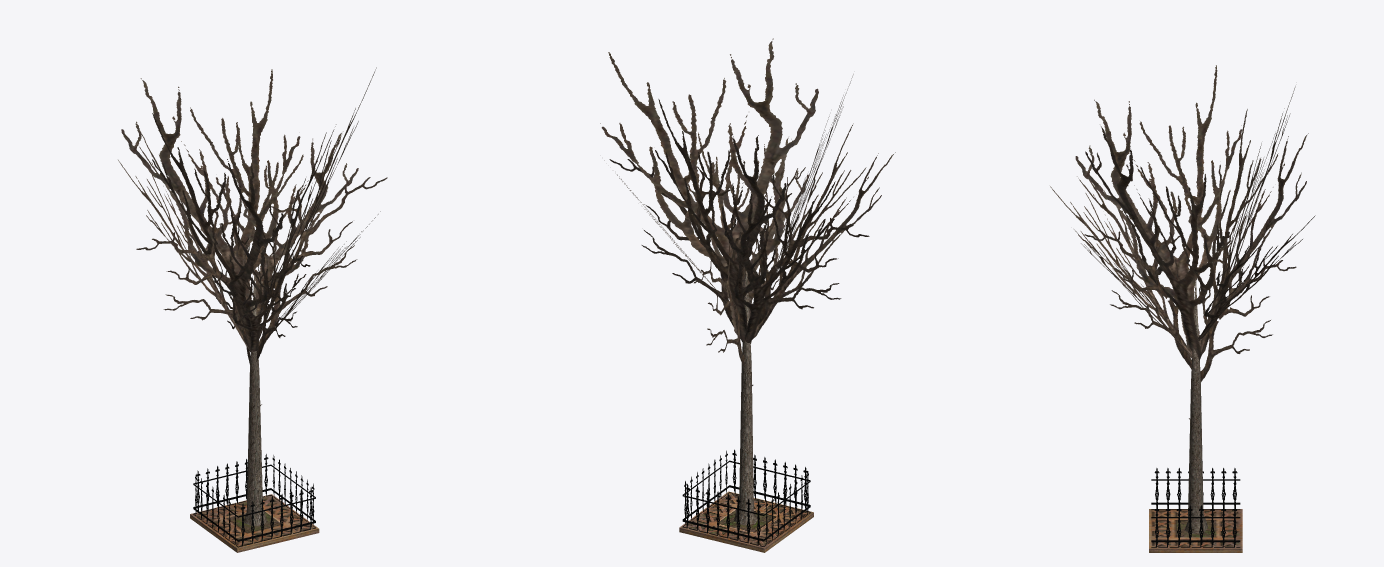
The model's file is tree1b_base.fbx.
The picture shows the model from 3 angles, left to right: view 1: azimuth 30°, elevation 25°; view 2: azimuth 150°, elevation 25°; view 3: azimuth 270°, elevation 25°; orthographic projection. The views are drawn at different scales.
Visible parts, largest first — view 1: mesh_12, mesh_13, mesh_0, mesh_2, mesh_10, mesh_3, mesh_8, mesh_4, mesh_14, mesh_11, mesh_6, mesh_7 (+1 smaller); view 2: mesh_14, mesh_12, mesh_0, mesh_2, mesh_11, mesh_8, mesh_3, mesh_6, mesh_4, mesh_9, mesh_5, mesh_13; view 3: mesh_13, mesh_14, mesh_11, mesh_2, mesh_3, mesh_0, mesh_8, mesh_7, mesh_5, mesh_10, mesh_12, mesh_9.
Boxes of the visible parts, x1,y1,x2,y2 form: mesh_12: (121,69,300,311); mesh_13: (152,113,283,351); mesh_0: (193,454,315,547); mesh_2: (190,494,319,552); mesh_10: (216,131,358,325); mesh_3: (244,268,266,526); mesh_8: (212,250,306,351); mesh_4: (258,177,387,405); mesh_14: (259,67,376,338); mesh_11: (118,130,250,350); mesh_6: (136,211,251,394); mesh_7: (256,227,310,413); mesh_14: (600,38,818,334); mesh_12: (655,99,786,343); mesh_0: (682,449,810,546); mesh_2: (679,491,813,552); mesh_11: (724,181,835,342); mesh_8: (752,123,895,339); mesh_3: (734,271,757,525); mesh_6: (751,193,869,385); mesh_4: (609,159,740,326); mesh_9: (687,132,808,314); mesh_5: (694,232,744,367); mesh_13: (749,74,853,342); mesh_13: (1075,65,1242,353); mesh_14: (1085,126,1229,360); mesh_11: (1200,109,1308,354); mesh_2: (1149,509,1242,552); mesh_3: (1184,277,1207,533); mesh_0: (1151,468,1240,547); mesh_8: (1050,176,1192,358); mesh_7: (1084,225,1191,419); mesh_5: (1199,243,1296,381); mesh_10: (1198,215,1315,340); mesh_12: (1199,86,1295,361); mesh_9: (1074,229,1195,360).
Size of the model in its own units: 1003 by 1046 by 840.
Materials: 4 (4 with a texture image).
